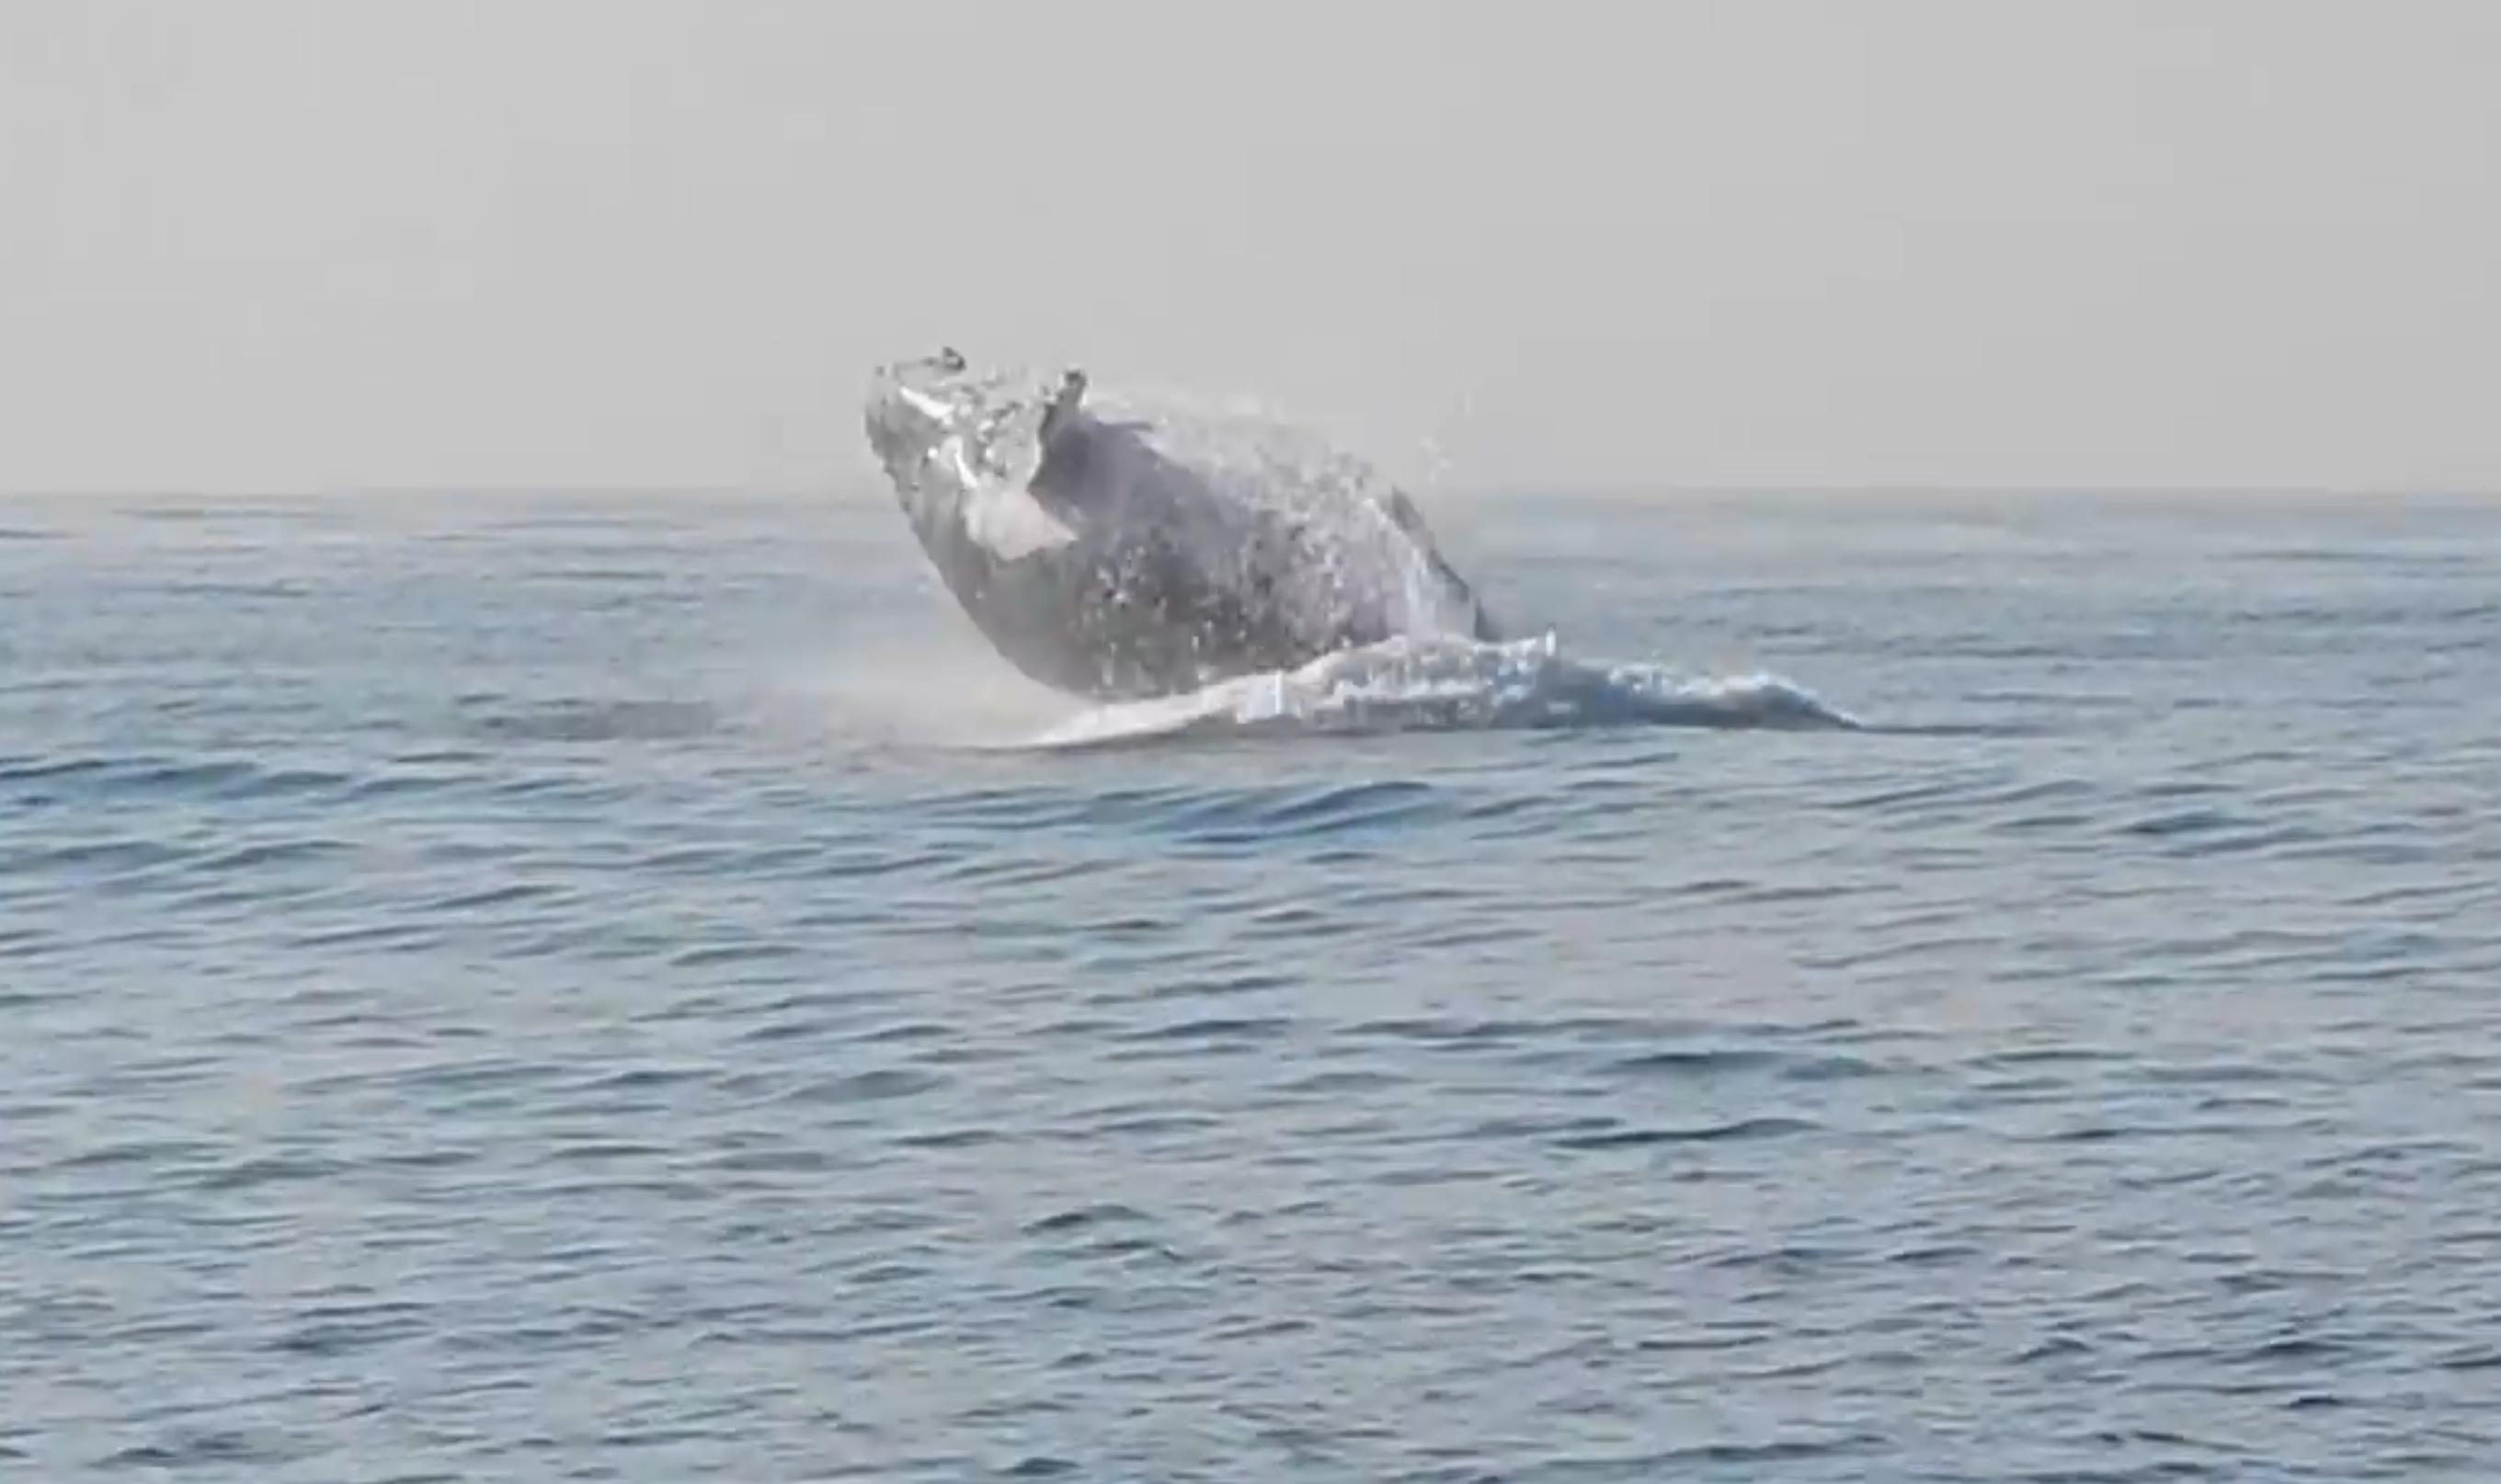humpback: (865, 344, 1510, 730)
